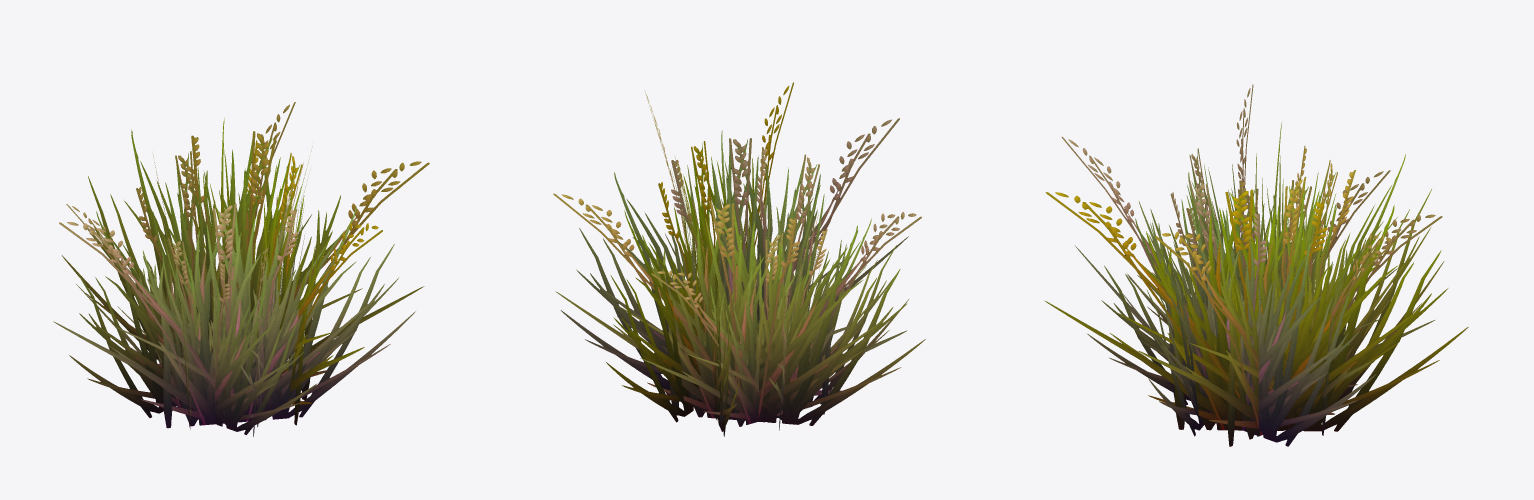
The model's file is pasto.glb.
3 views of the same model, side by side, from view 1: azimuth 30°, elevation 25°; view 2: azimuth 150°, elevation 25°; view 3: azimuth 270°, elevation 25° (orthographic). The views are drawn at different scales.
Parts seen in each view (by area): view 1: pasto; view 2: pasto; view 3: pasto.
Boxes of the visible parts, <box> form: pasto: <box>53,102,429,436</box>; pasto: <box>553,82,925,436</box>; pasto: <box>1044,84,1468,446</box>.
Size of the model in its own units: 0.7018 by 0.485 by 0.749.
Materials: 1 (1 with a texture image).
